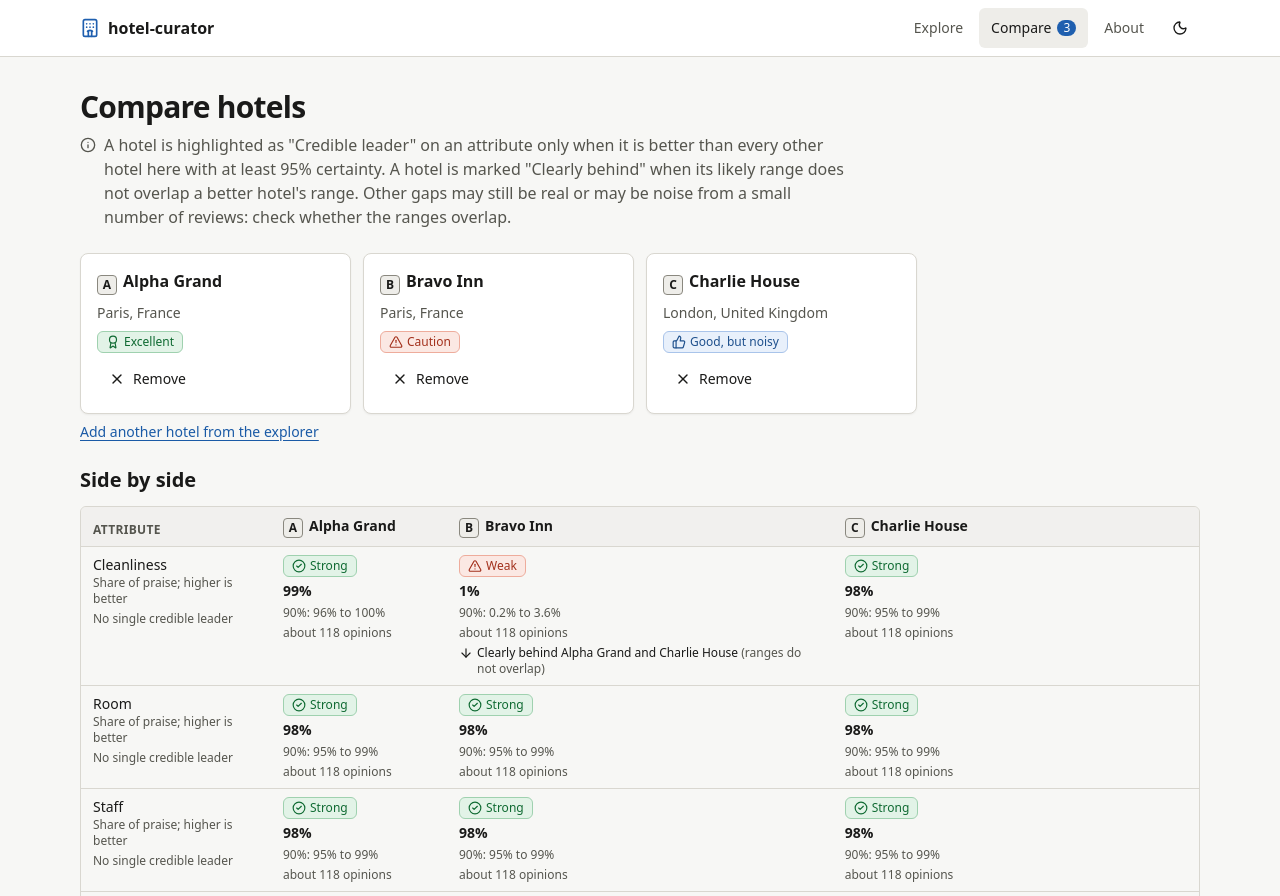
it: Compare page › removes a hotel and keeps the selection in the URL
Click the button with aria-label "Remove Charlie House from the comparison". click: (713, 379)
box: [663, 361, 764, 397]
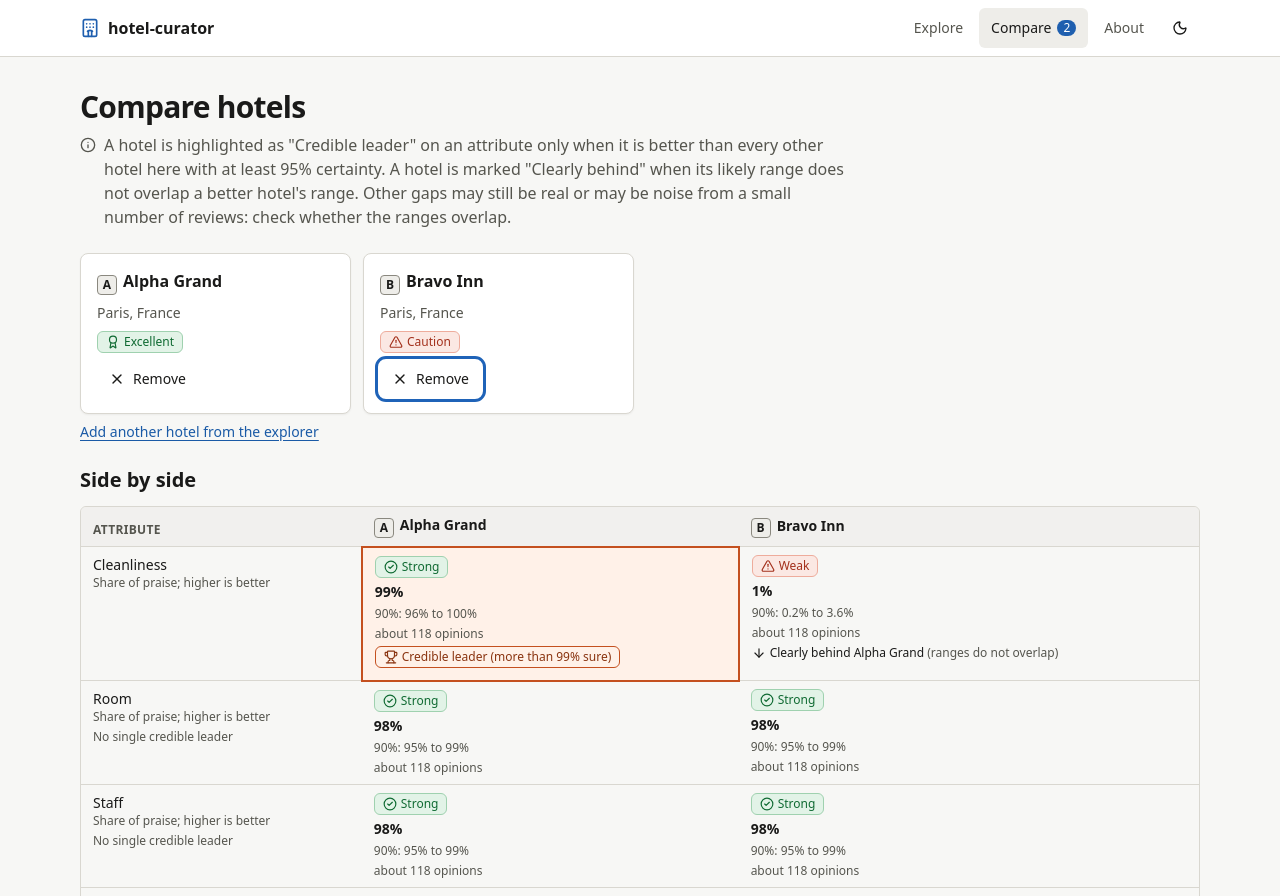
Click the button with aria-label "Remove Bravo Inn from the comparison". click: (430, 379)
box: [380, 361, 481, 397]
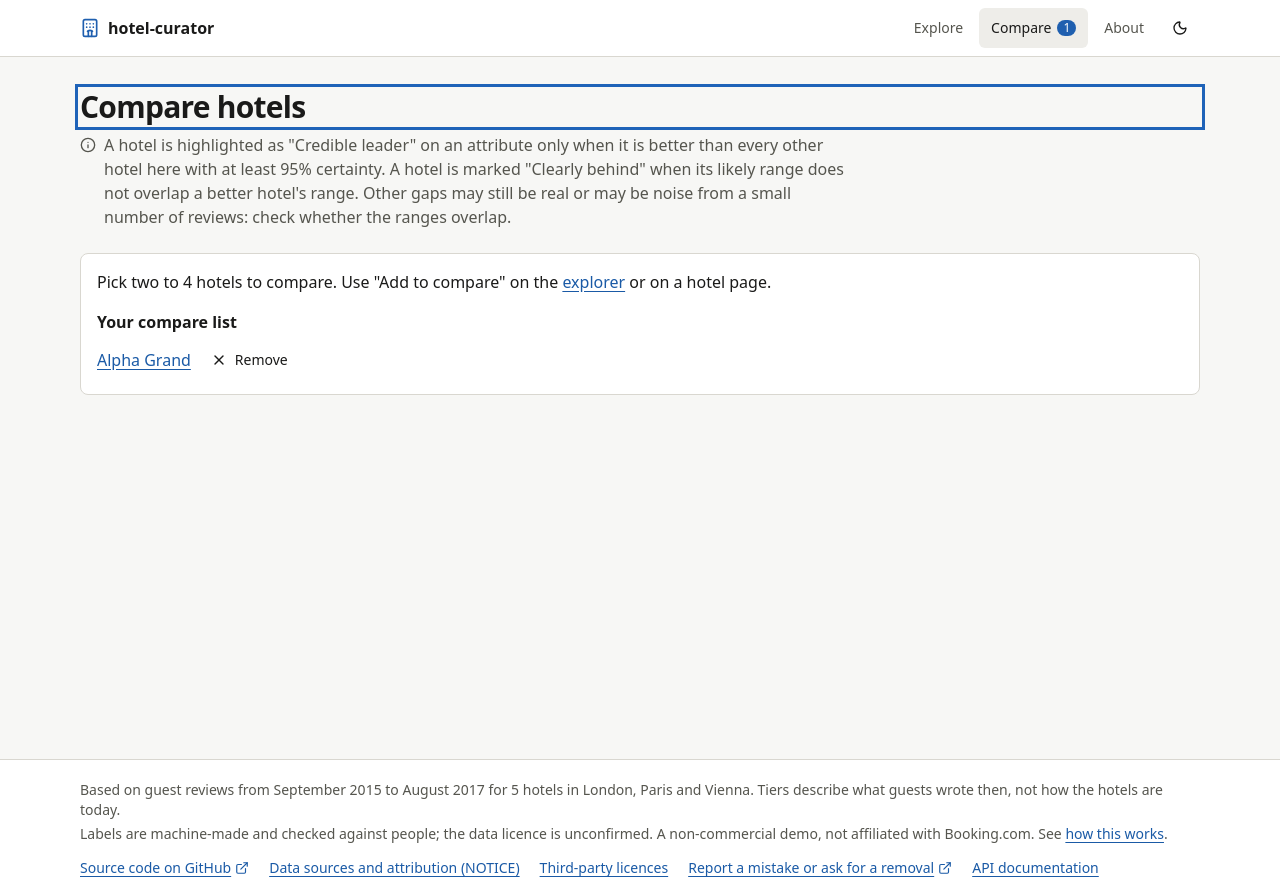
Expected: the text "Pick two to 4 hotels to compare" is shown, [97, 271, 771, 293]
